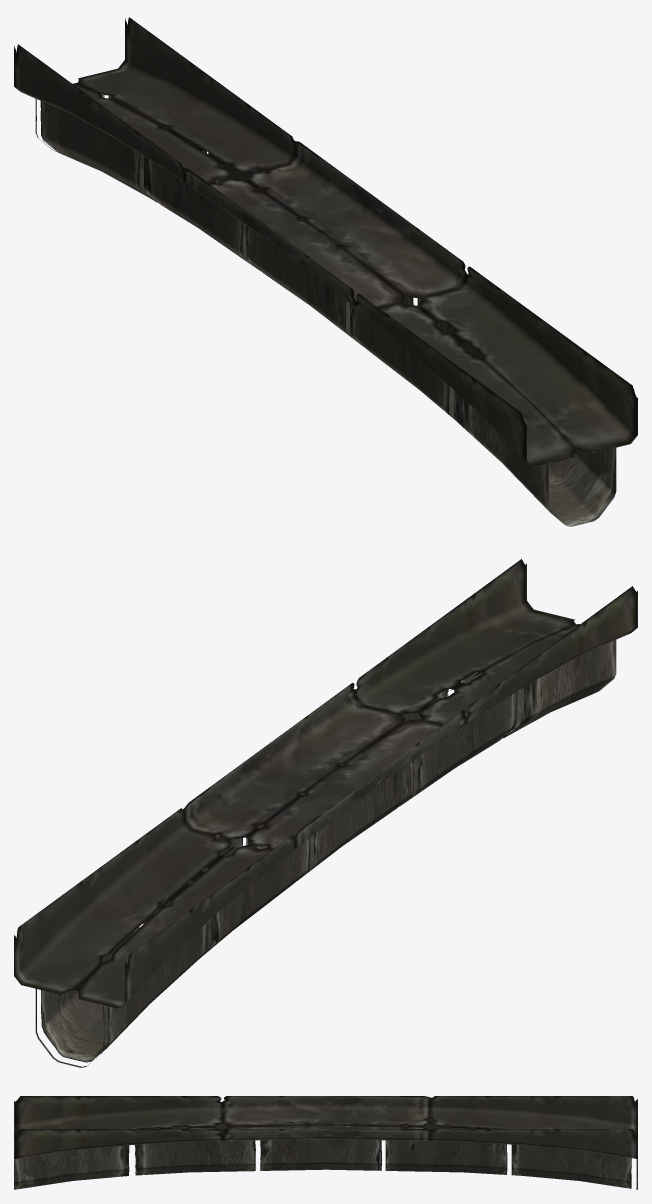
The picture shows the model from 3 angles, top to bottom: view 1: azimuth 30°, elevation 25°; view 2: azimuth 150°, elevation 25°; view 3: azimuth 270°, elevation 25°; orthographic projection. The views are drawn at different scales.
Parts seen in each view (by area): view 1: SM_Greathall_Wall_8x10_06_LOD0; view 2: SM_Greathall_Wall_8x10_06_LOD0; view 3: SM_Greathall_Wall_8x10_06_LOD0.
Boxes of the visible parts, x1,y1,x2,y2 form: SM_Greathall_Wall_8x10_06_LOD0: (14,17,637,526); SM_Greathall_Wall_8x10_06_LOD0: (14,559,637,1067); SM_Greathall_Wall_8x10_06_LOD0: (14,1096,637,1189).
Size of the model in its own units: 1 by 1.04 by 8.
Materials: 2 (2 with a texture image).
